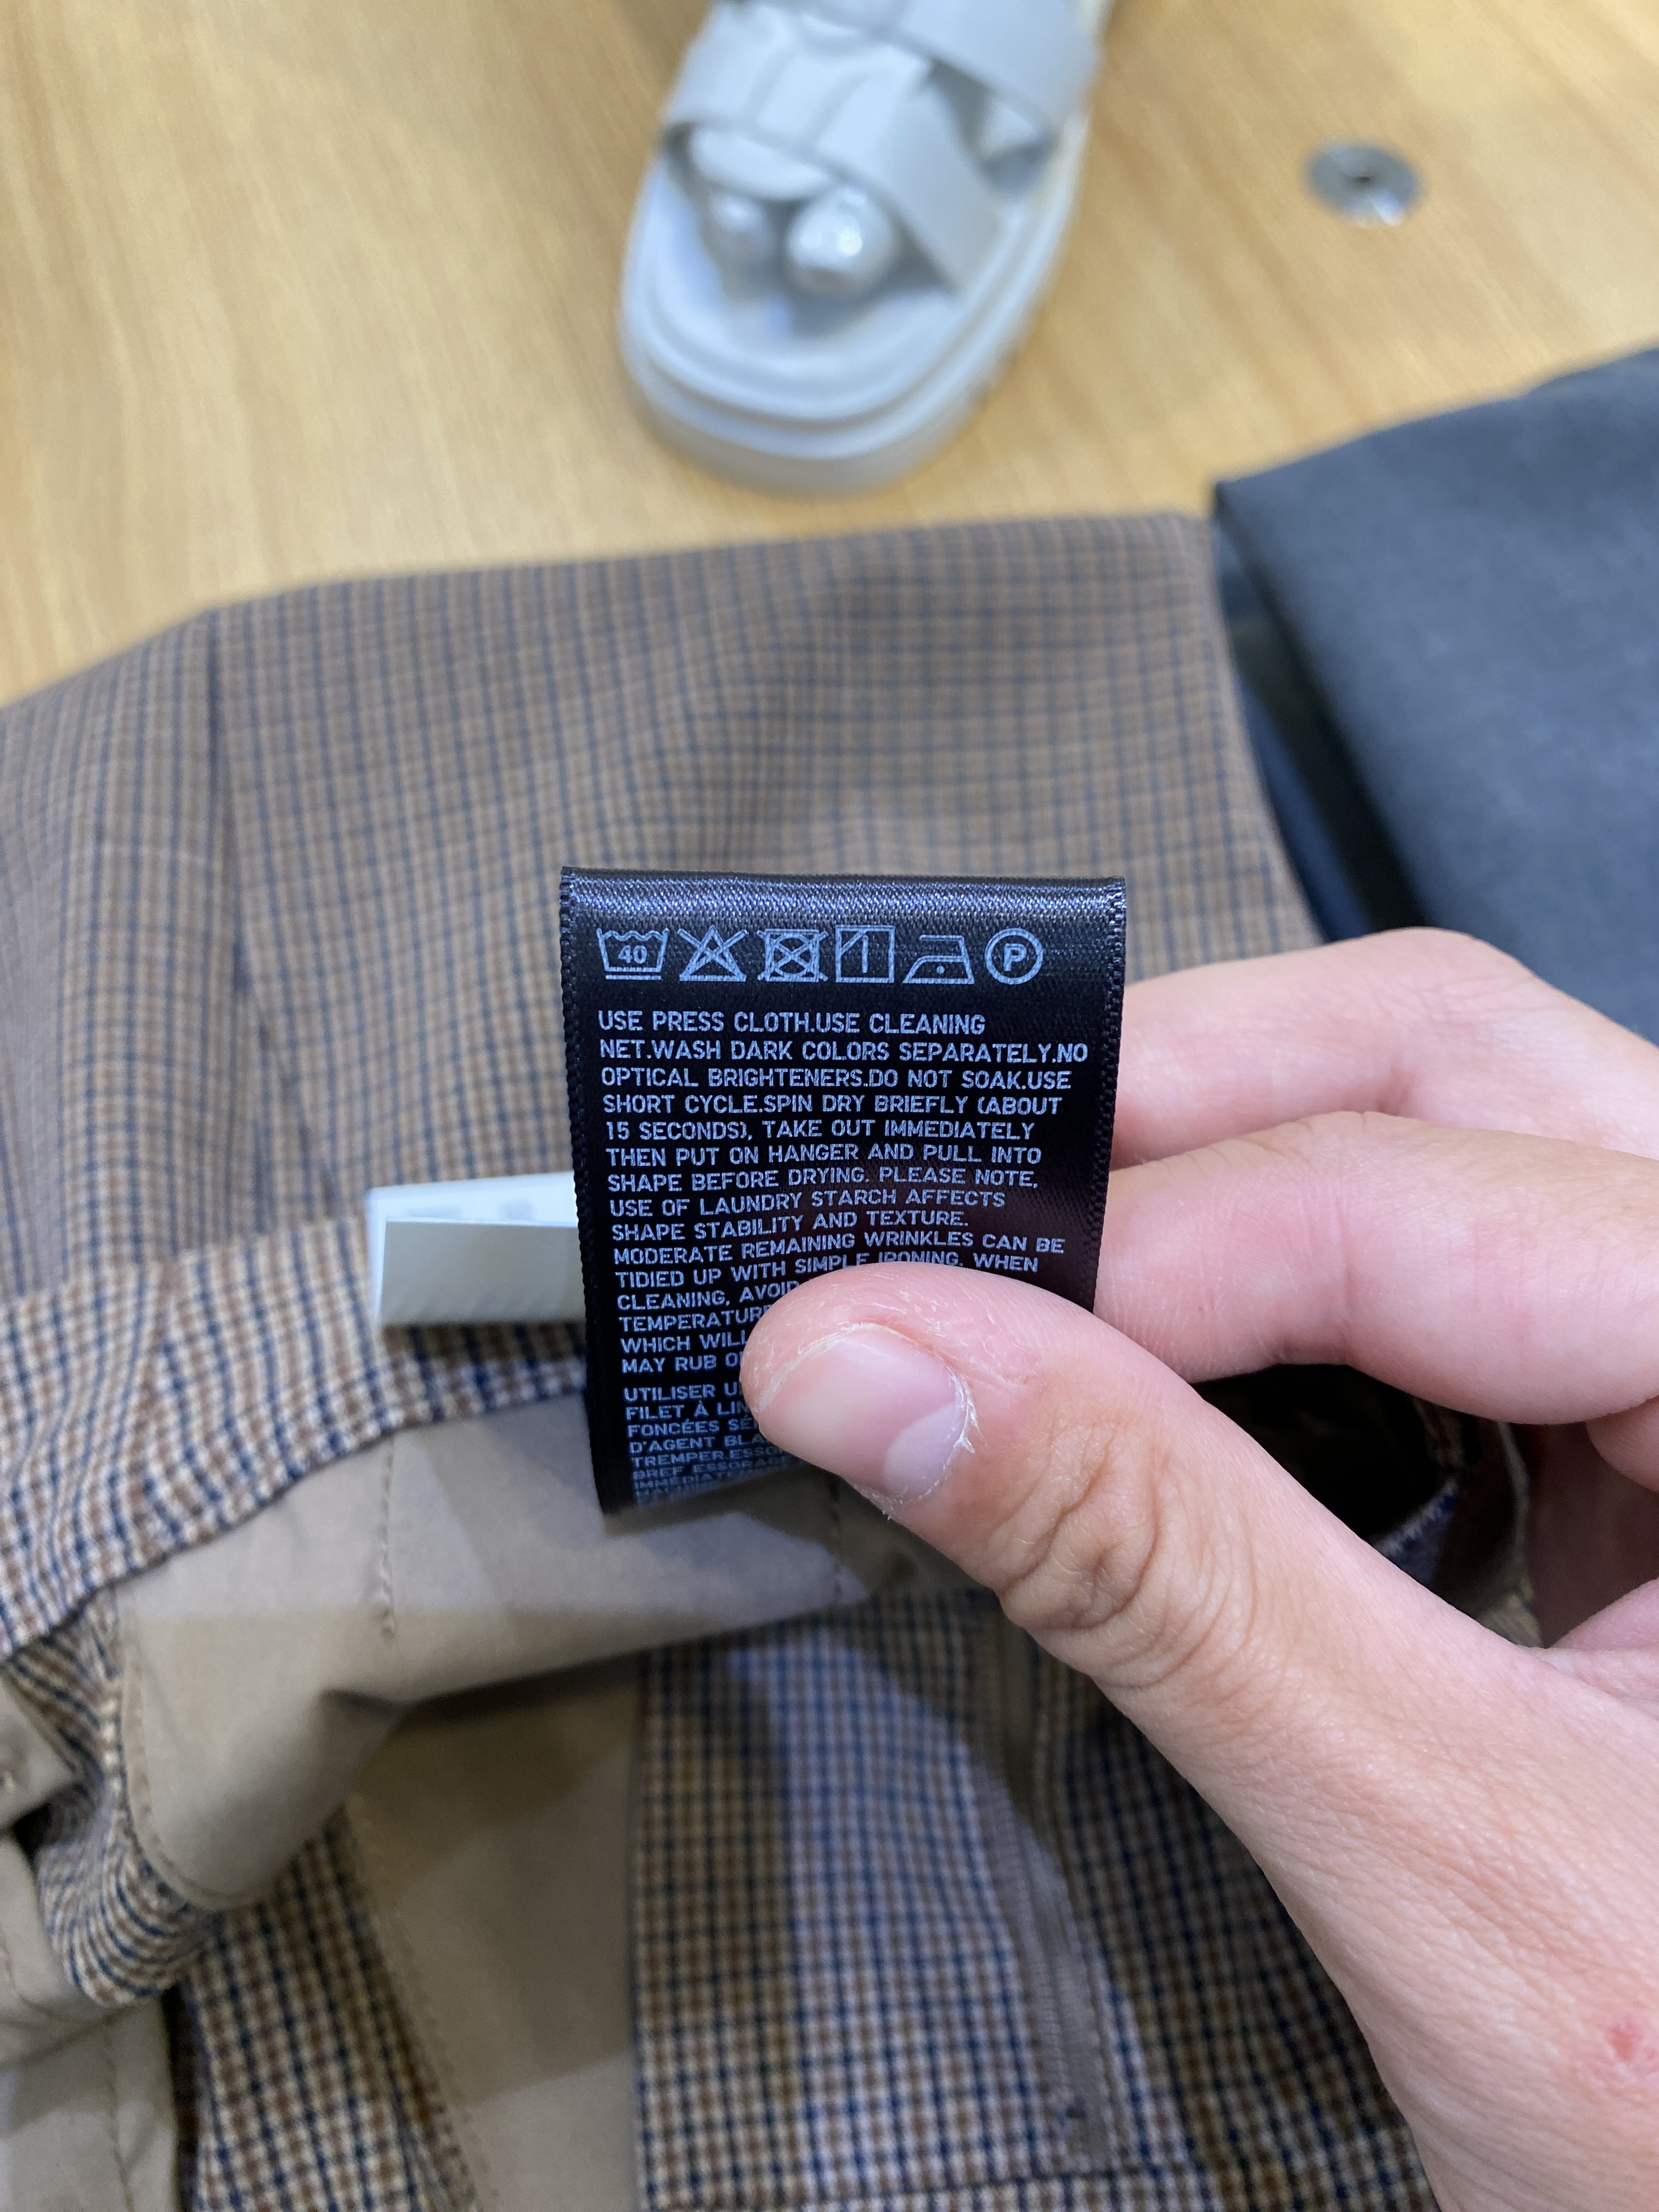tag: (535, 855, 1124, 1534)
